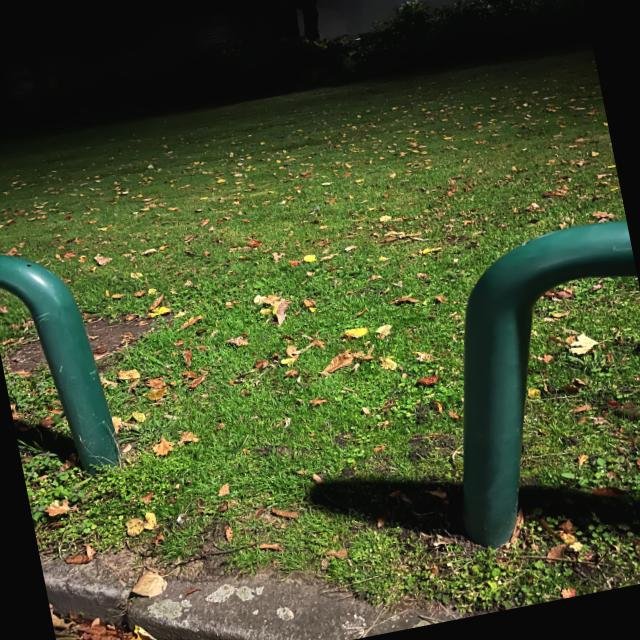leaves: (364, 207, 441, 260), (144, 413, 229, 461), (52, 613, 163, 639), (326, 346, 363, 376), (254, 292, 291, 320)
pavement: (41, 556, 436, 639)
plants: (0, 30, 619, 336), (104, 247, 450, 558), (540, 278, 640, 586), (384, 523, 560, 621)
